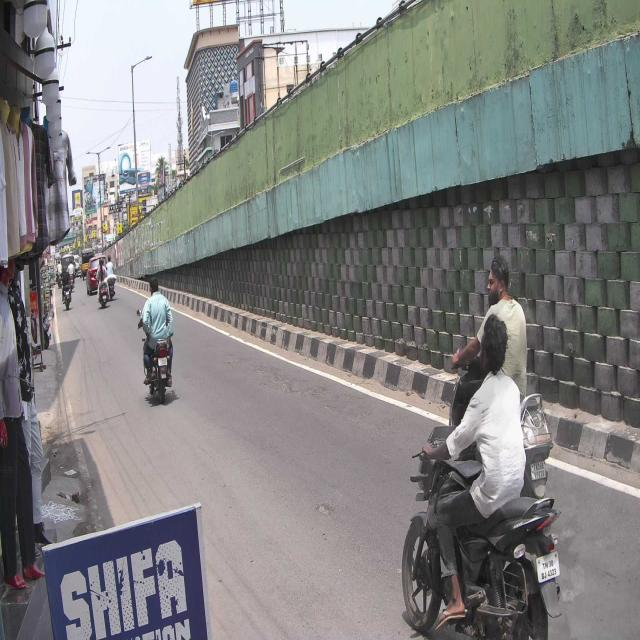single_rider: (401, 314, 565, 640)
